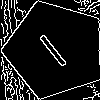I: (30, 25, 70, 69)
